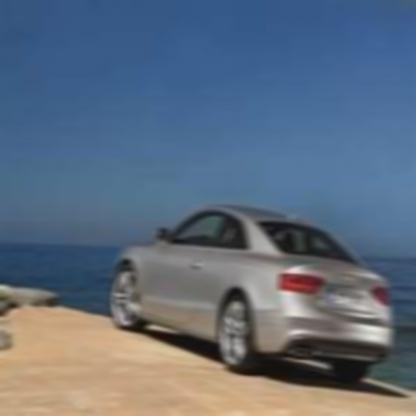Vehicle: (111, 204, 394, 385)
